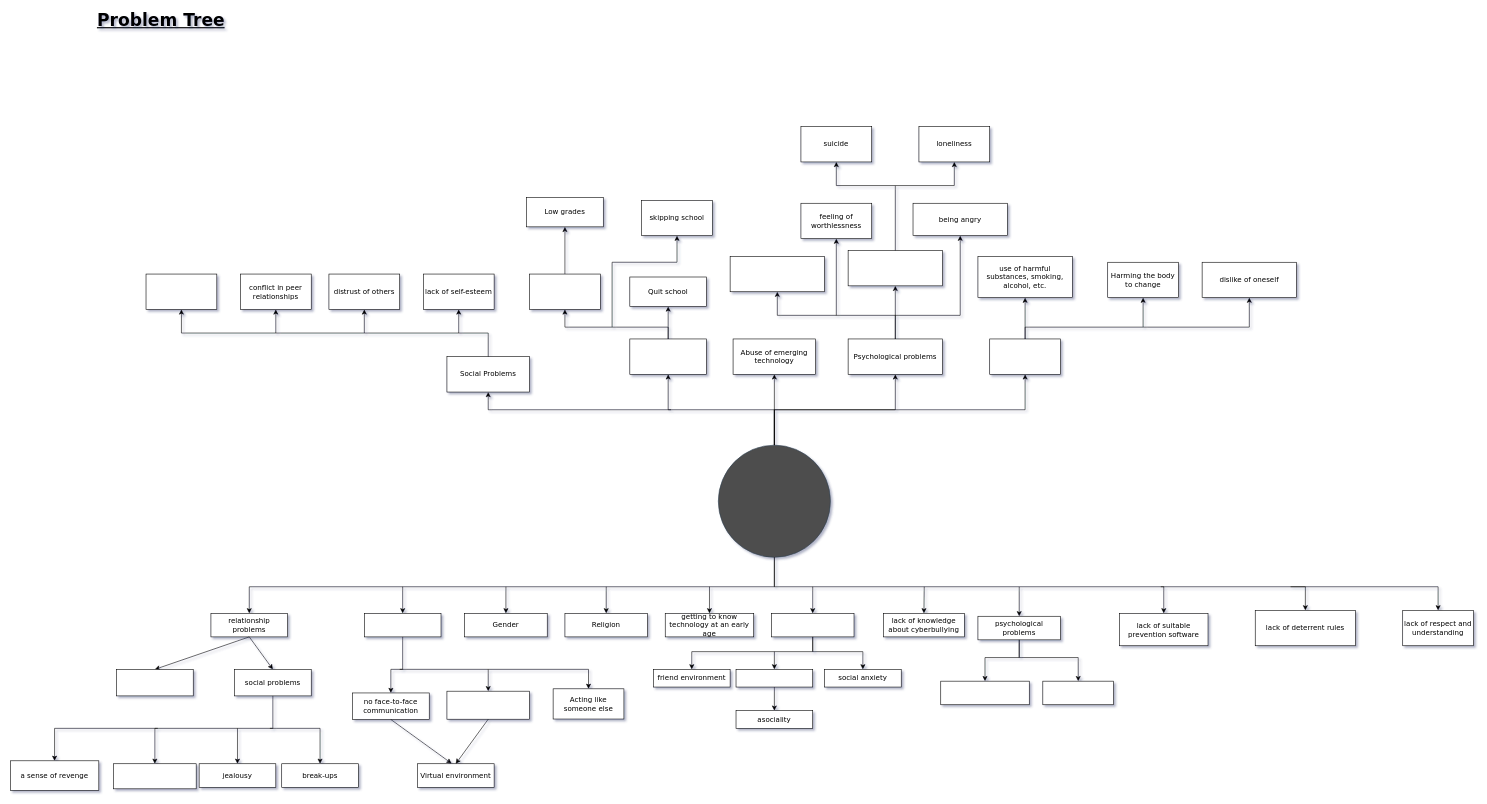
This 1487x804 diagram has some shape labels left out. Here are the shapes that lost their labels. From the top down, the centre of each, then its label:
point (777, 274): Stress in life
point (895, 268): Depression
point (181, 291): having difficulty forming friendships
point (564, 291): having trouble learning lessons
point (668, 356): failure in education
point (1025, 356): Health problems
point (774, 501): Cyber- bullying and violence on youth people
point (402, 625): Anonymity
point (812, 625): Spending too much time on the internet
point (154, 682): family problems
point (774, 678): boredom
point (984, 693): be prone to aggressive behavior
point (1078, 693): low self esteem
point (488, 705): identity privacy
point (154, 776): Hateful feeling
